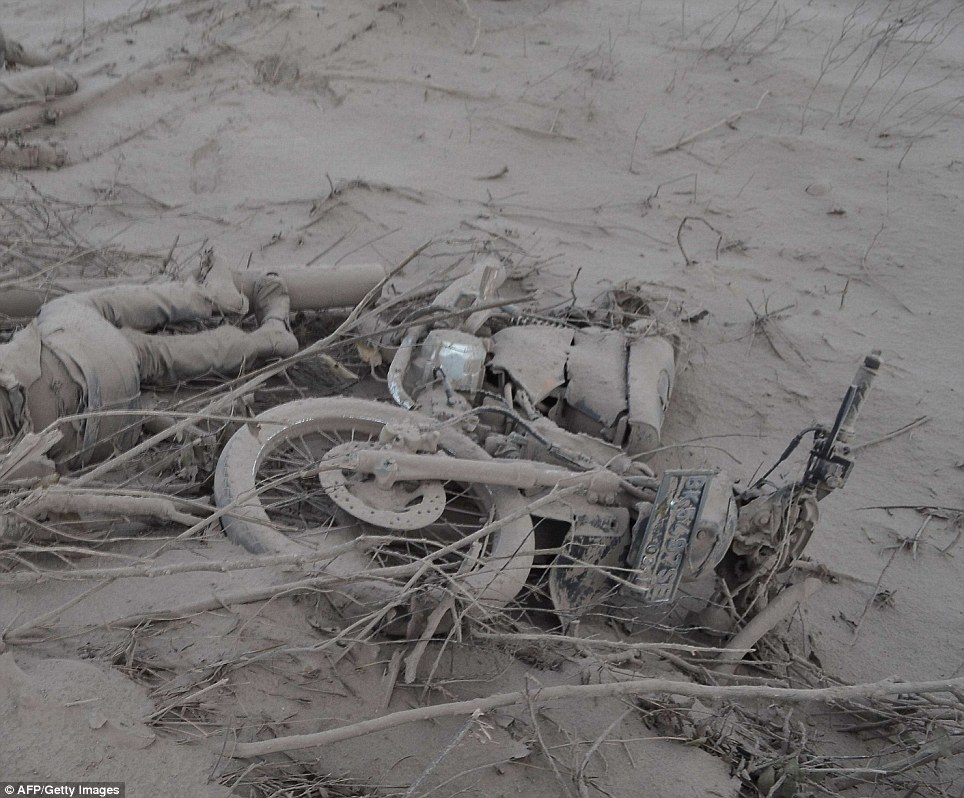Korban: (0, 244, 299, 478)
